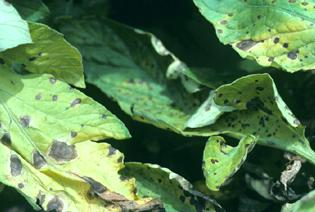Tomato Septoria leaf spot: (0, 49, 147, 212), (176, 69, 315, 177), (174, 0, 315, 79)
